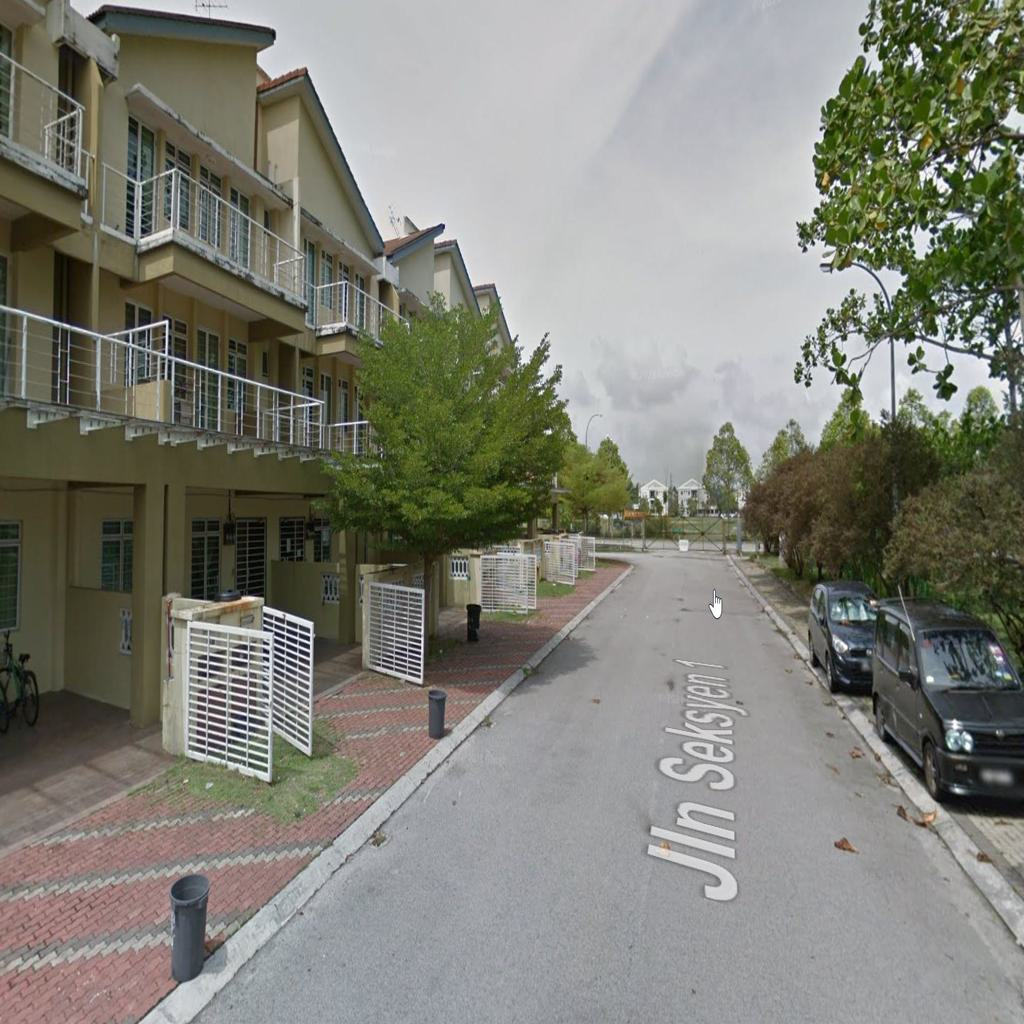Junction: (567, 530, 702, 579)
